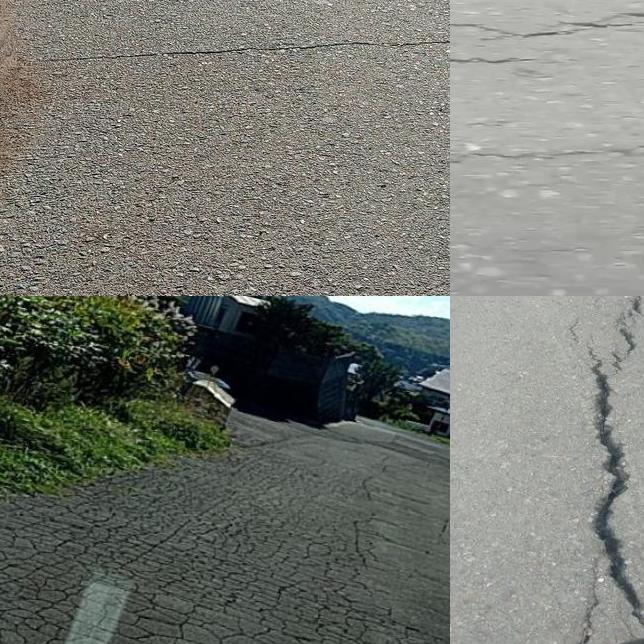Melintang: (42, 25, 450, 78), (450, 130, 644, 178), (450, 43, 539, 85)
Memanjang: (573, 296, 644, 628)
Retak Buaya: (0, 460, 378, 644)
